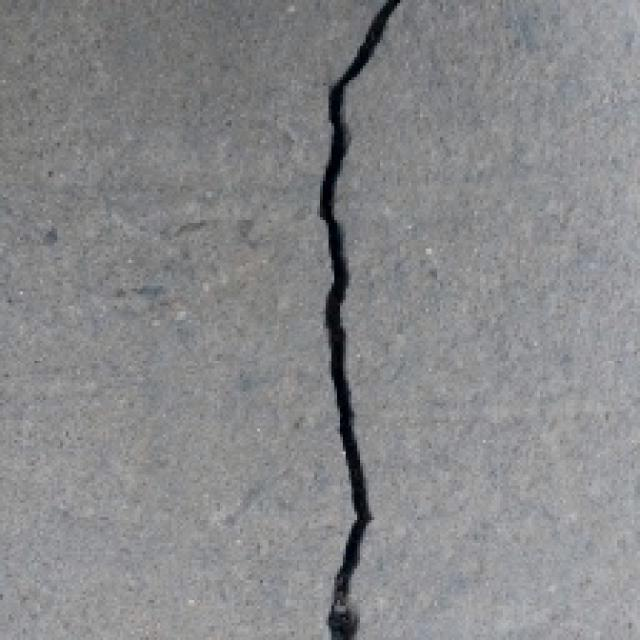SurfaceCrack: (280, 0, 432, 640)
